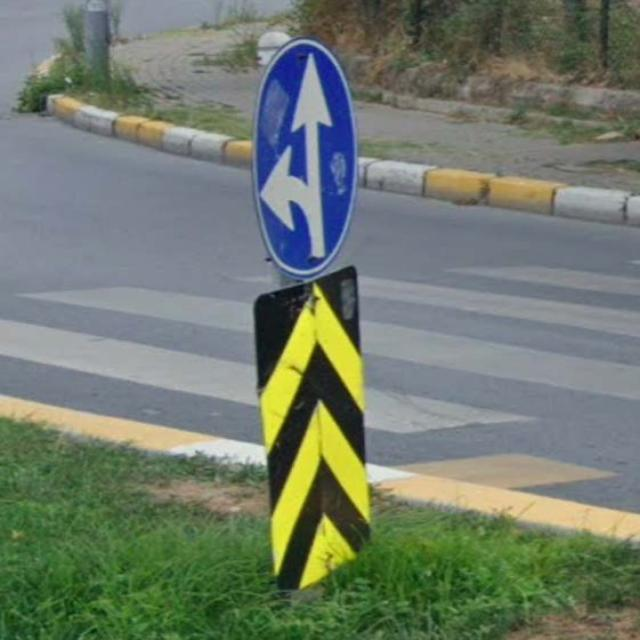ilerisol: (252, 38, 359, 281)
